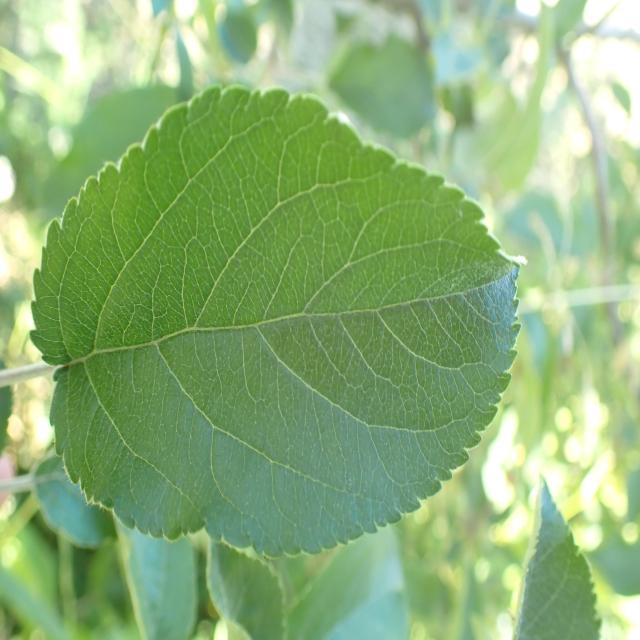healthy: (29, 83, 529, 560), (510, 472, 602, 639)
